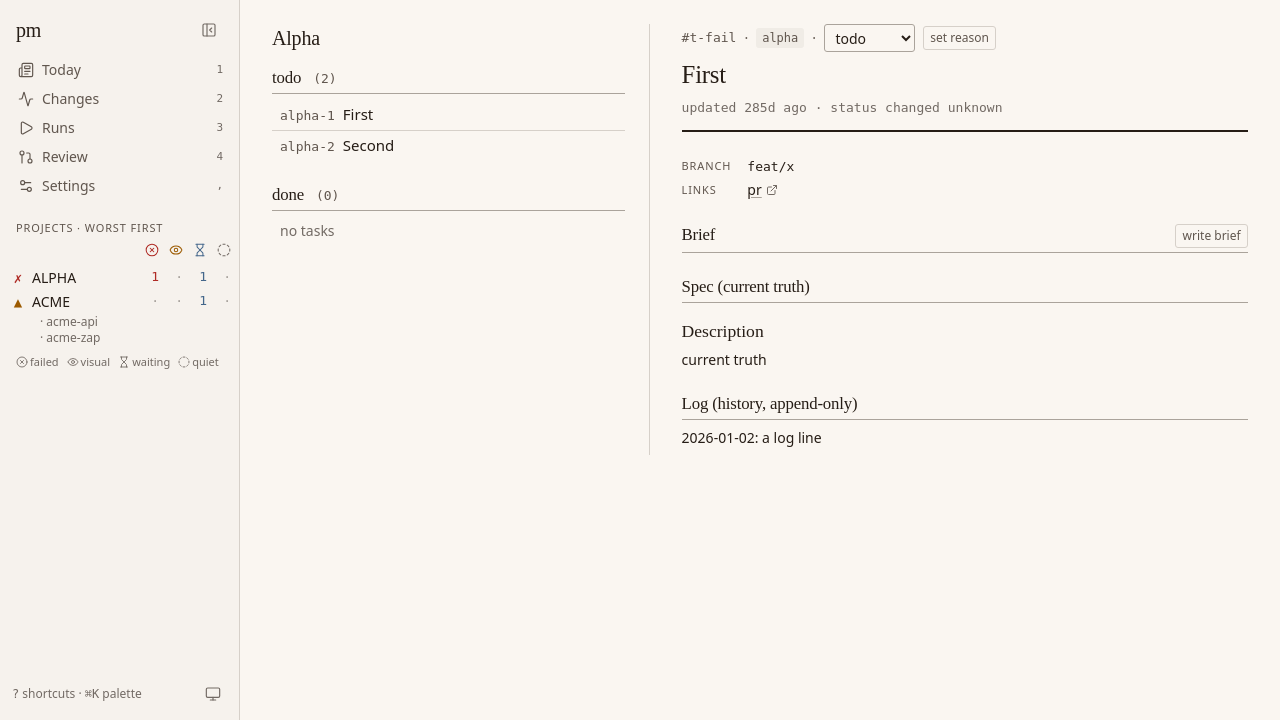
mutations go through the dialog › a rejected mutation keeps the dialog open with the error text
Select "done" in the dropdown named "status" at (869, 38), box left=824, top=24, right=915, bottom=52
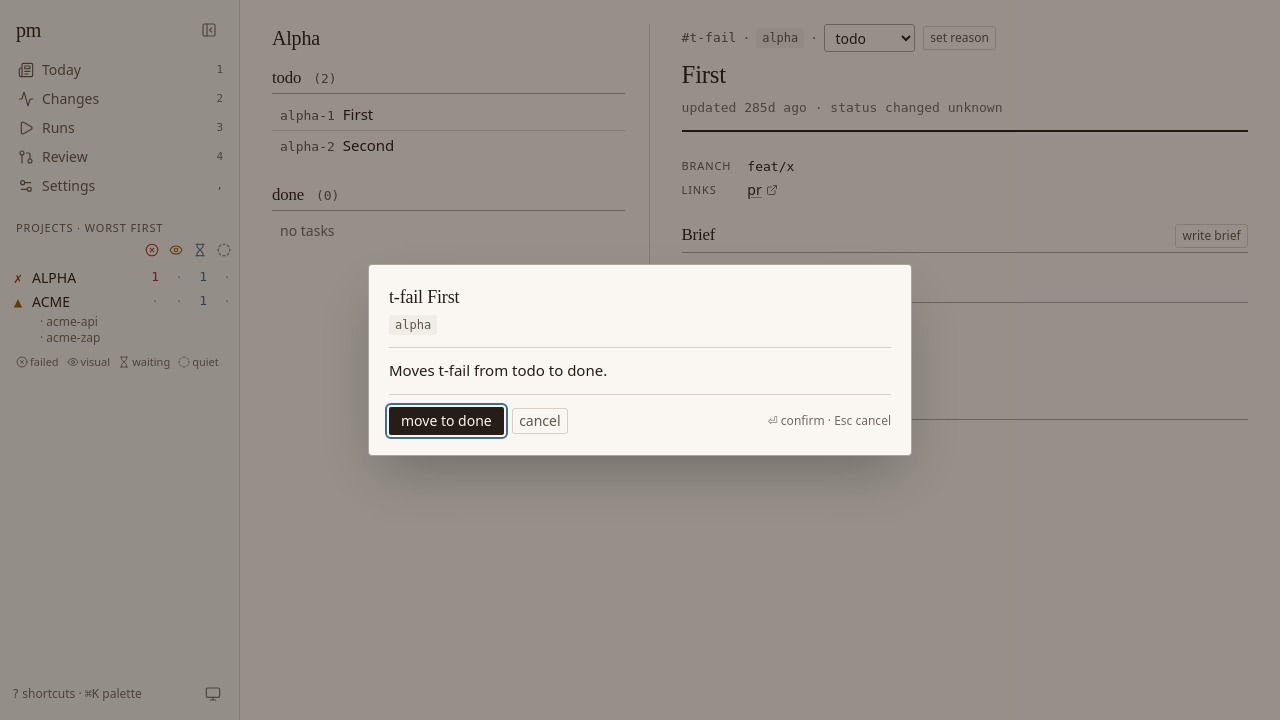
Click the button "move to done" at (446, 421), box left=389, top=407, right=504, bottom=435
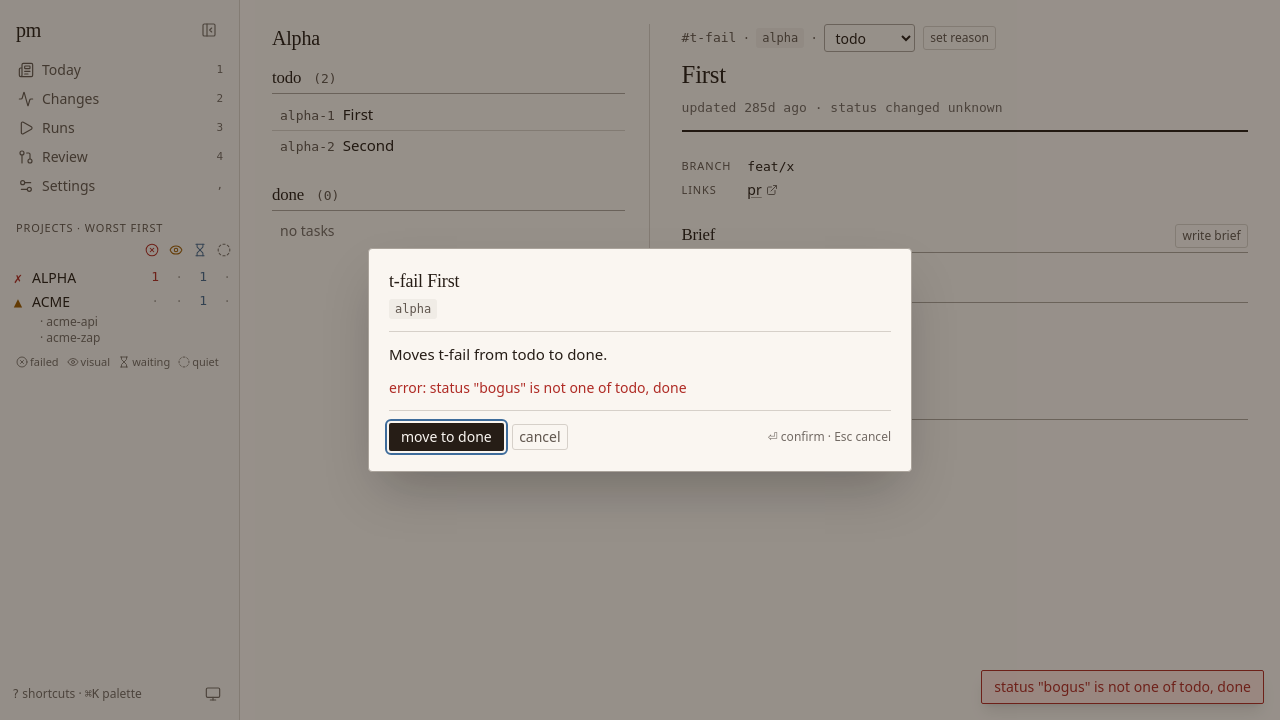
Result: the text "error: status \"bogus\" is not one of todo, done" is shown at left=389, top=378, right=687, bottom=397
